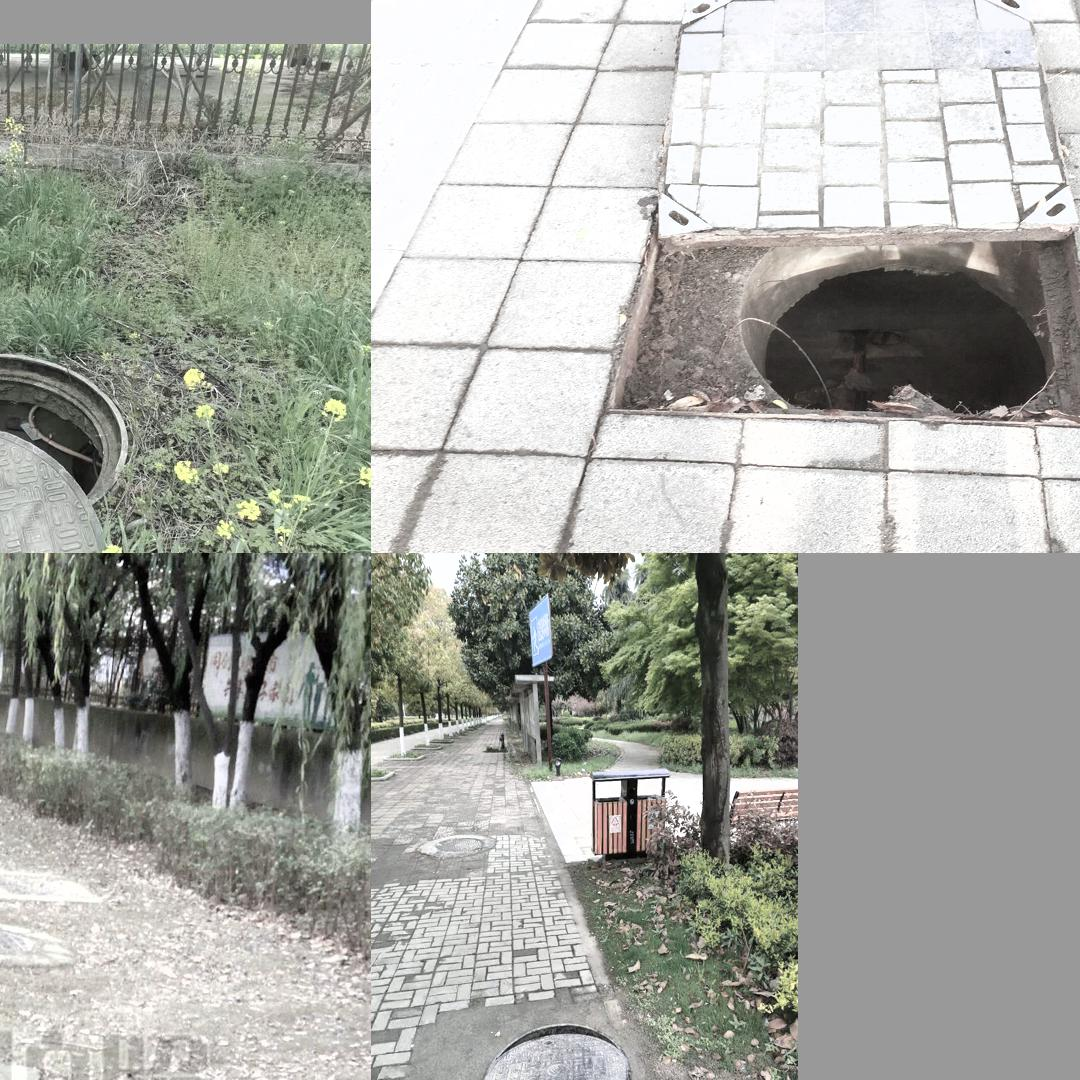good: (0, 868, 92, 906), (0, 921, 55, 964)
uncovered: (588, 0, 1068, 441), (0, 345, 147, 552), (475, 1005, 641, 1080), (0, 1066, 132, 1080)
